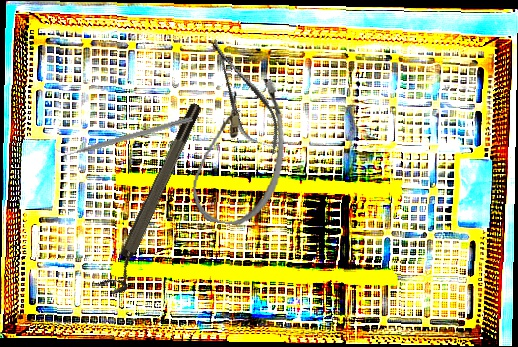Cannula: (187, 70, 294, 231)
Chopper: (54, 108, 194, 161)
Fixation Ring: (97, 100, 214, 299)
Micro Scissor: (196, 29, 293, 164)
